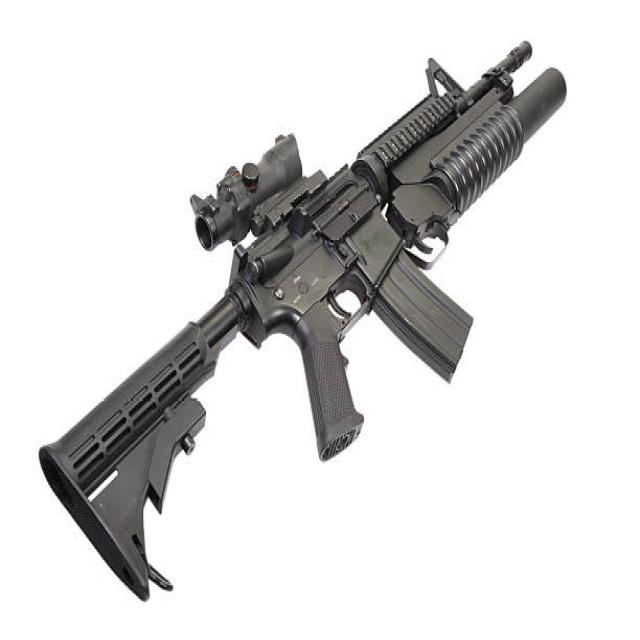rifle: (35, 30, 570, 629)
